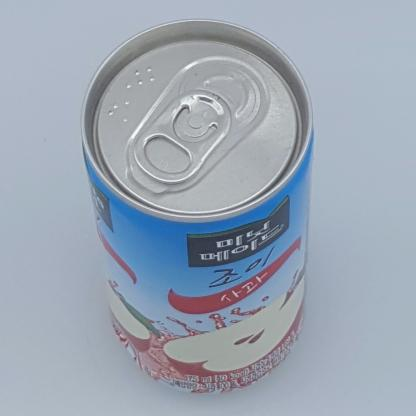-------175ml: (81, 19, 314, 395)
